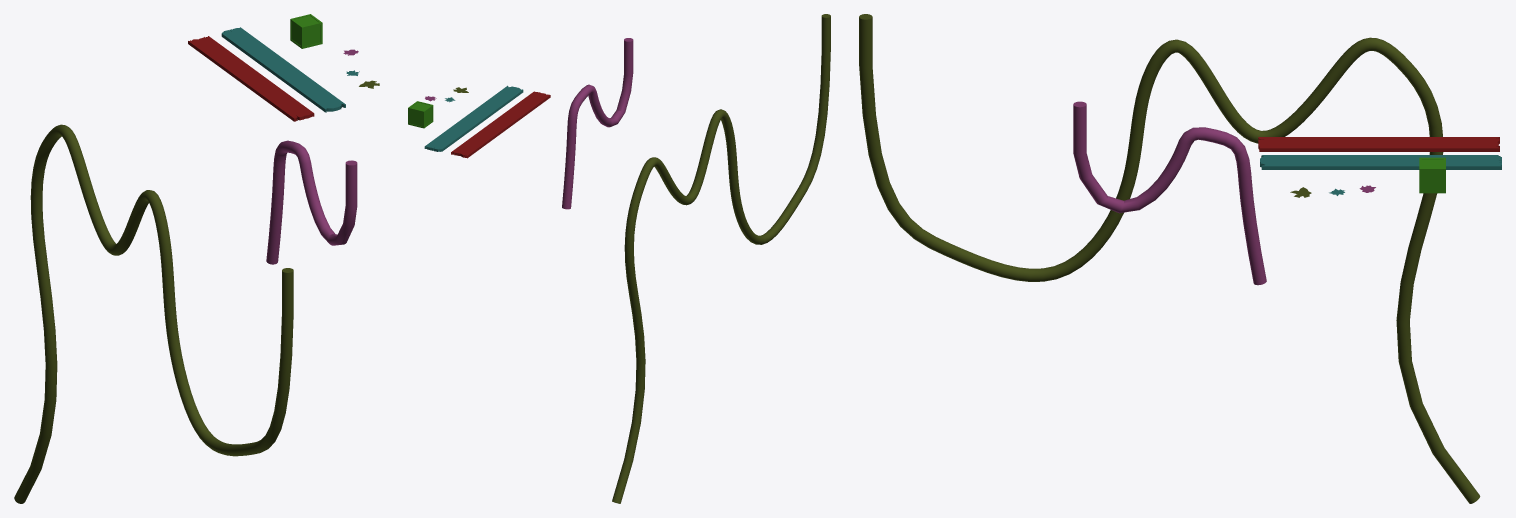
Rendered from Misc Durniture.obj.
3 renders of one model, left to right at view 1: azimuth 30°, elevation 25°; view 2: azimuth 150°, elevation 25°; view 3: azimuth 270°, elevation 25°, orthographic. The views are drawn at different scales.
Visible parts, largest first — view 1: Wire_V2 Wire_V2, Wire_V1 Wire_V1, Wooden_Plank_V1, Wooden_Plank_V2, Crate; view 2: Wire_V2 Wire_V2, Wire_V1 Wire_V1, Wooden_Plank_V1, Wooden_Plank_V2, Crate; view 3: Wire_V2 Wire_V2, Wire_V1 Wire_V1, Wooden_Plank_V1, Wooden_Plank_V2, Crate.
Part boxes in pixels (x1,y1,x2,y2): Wire_V2 Wire_V2: (14,124,293,503); Wire_V1 Wire_V1: (266,140,357,264); Wooden_Plank_V1: (188,36,314,121); Wooden_Plank_V2: (221,27,345,112); Crate: (290,14,322,48); Wire_V2 Wire_V2: (612,14,830,503); Wire_V1 Wire_V1: (562,38,633,209); Wooden_Plank_V1: (451,91,550,158); Wooden_Plank_V2: (424,85,523,151); Crate: (408,101,433,128); Wire_V2 Wire_V2: (859,14,1480,503); Wire_V1 Wire_V1: (1073,101,1266,285); Wooden_Plank_V1: (1258,137,1499,151); Wooden_Plank_V2: (1260,155,1501,169); Crate: (1419,157,1445,193).
Size of the model in its own units: 14.47 by 20.05 by 23.92.
